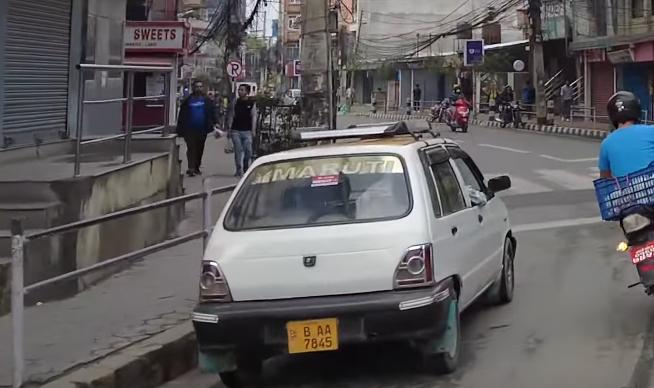bike: (496, 98, 525, 130)
scooter: (442, 97, 474, 132)
taxi: (188, 114, 527, 388)
